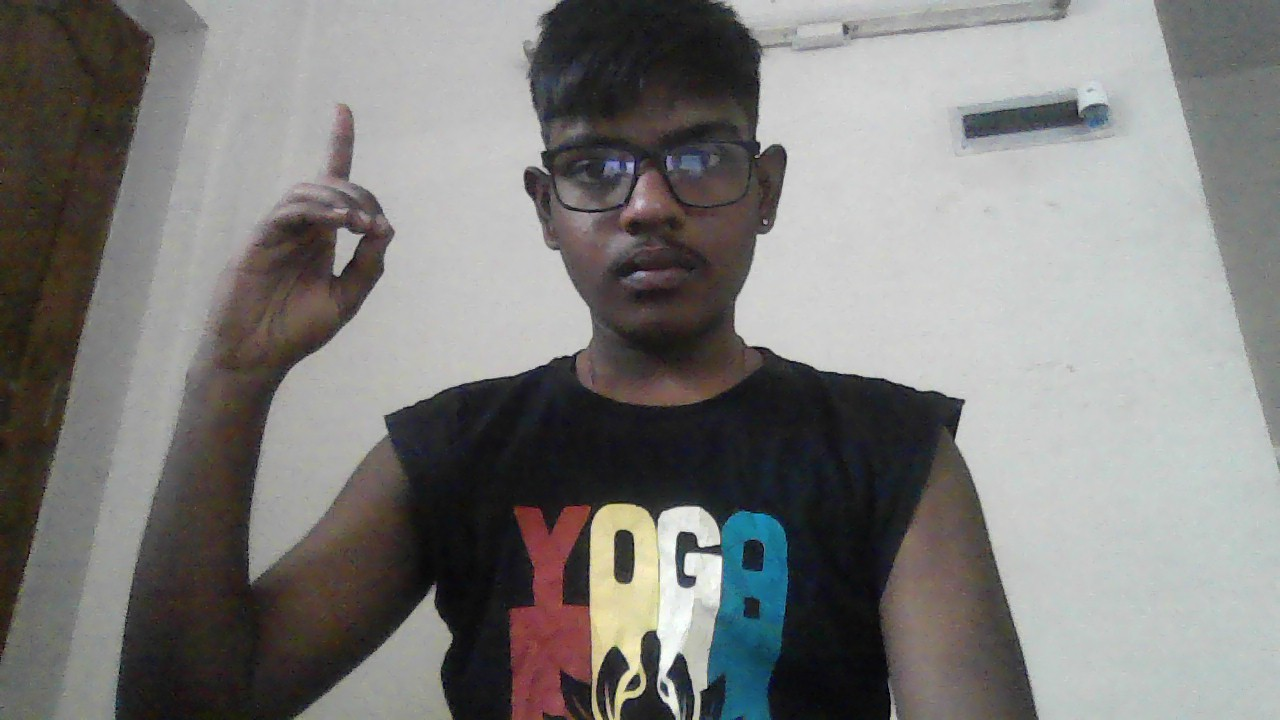D: (229, 103, 395, 365)
